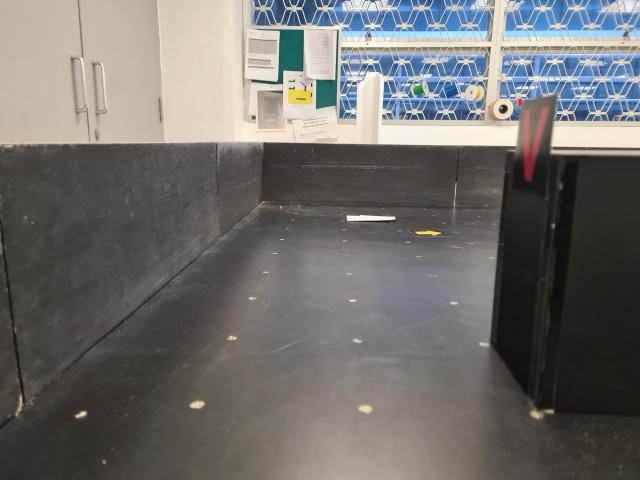v: (514, 95, 554, 198)
